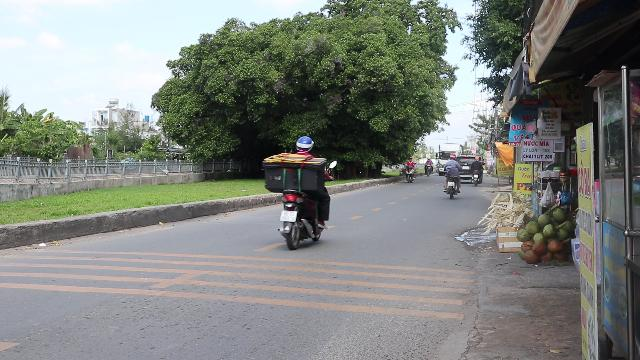helmet: (294, 136, 314, 153)
licenseplate: (279, 210, 297, 221)
motorcyclist: (270, 135, 332, 249)
